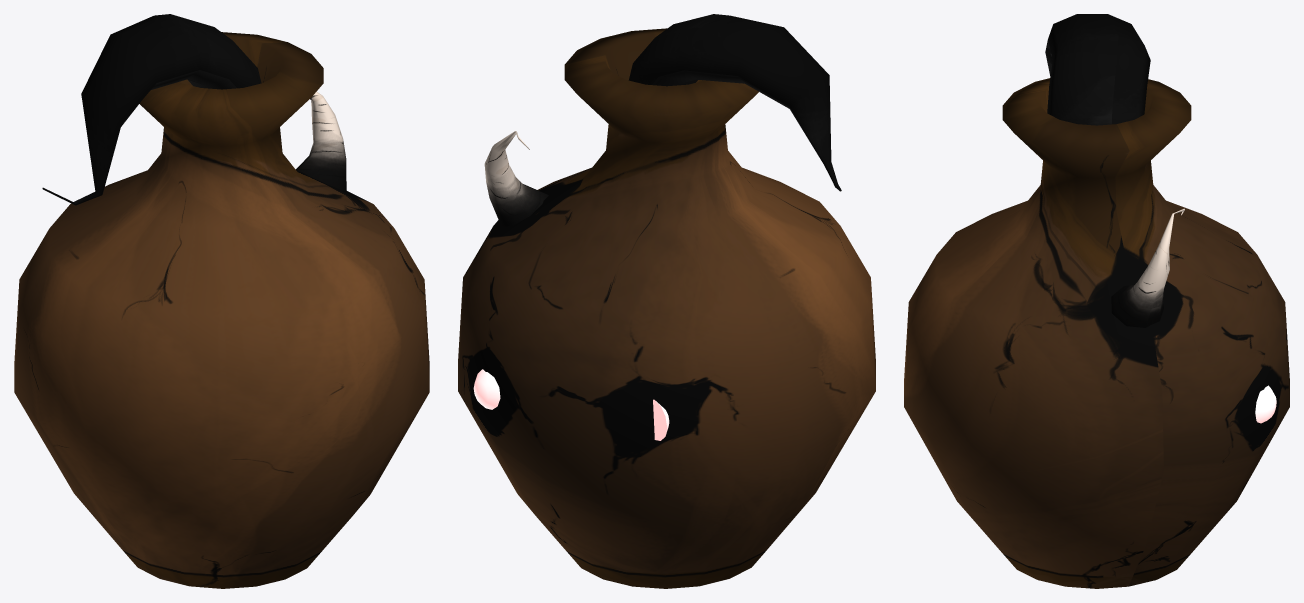
Rendered from physicalmonster.FBX.
The picture shows the model from 3 angles, left to right: view 1: azimuth 30°, elevation 25°; view 2: azimuth 150°, elevation 25°; view 3: azimuth 270°, elevation 25°; orthographic projection. The views are drawn at different scales.
Visible parts, largest first — view 1: Cylinder001, Cylinder003, Cylinder002; view 2: Cylinder001, Cylinder003, Cylinder002, Sphere001; view 3: Cylinder001, Cylinder003, Cylinder002, Sphere001.
Part boxes in pixels (box(x1,y1,x2,y2)): Cylinder001: box(14, 32, 429, 588); Cylinder003: box(42, 14, 261, 205); Cylinder002: box(296, 91, 346, 190); Cylinder001: box(458, 28, 875, 588); Cylinder003: box(628, 14, 841, 191); Cylinder002: box(484, 131, 548, 226); Sphere001: box(473, 369, 500, 409); Cylinder001: box(904, 78, 1289, 588); Cylinder003: box(1045, 14, 1150, 125); Cylinder002: box(1111, 208, 1184, 327); Sphere001: box(1255, 385, 1276, 423).
Size of the model in its own units: 50.77 by 71.02 by 50.
Materials: 4 (3 with a texture image).
